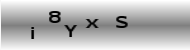8: (47, 10, 61, 23)
S: (114, 14, 130, 29)
Y: (63, 24, 78, 39)
i: (29, 26, 37, 41)
x: (85, 18, 100, 29)
